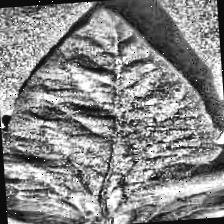spider mites: (0, 1, 224, 224)
